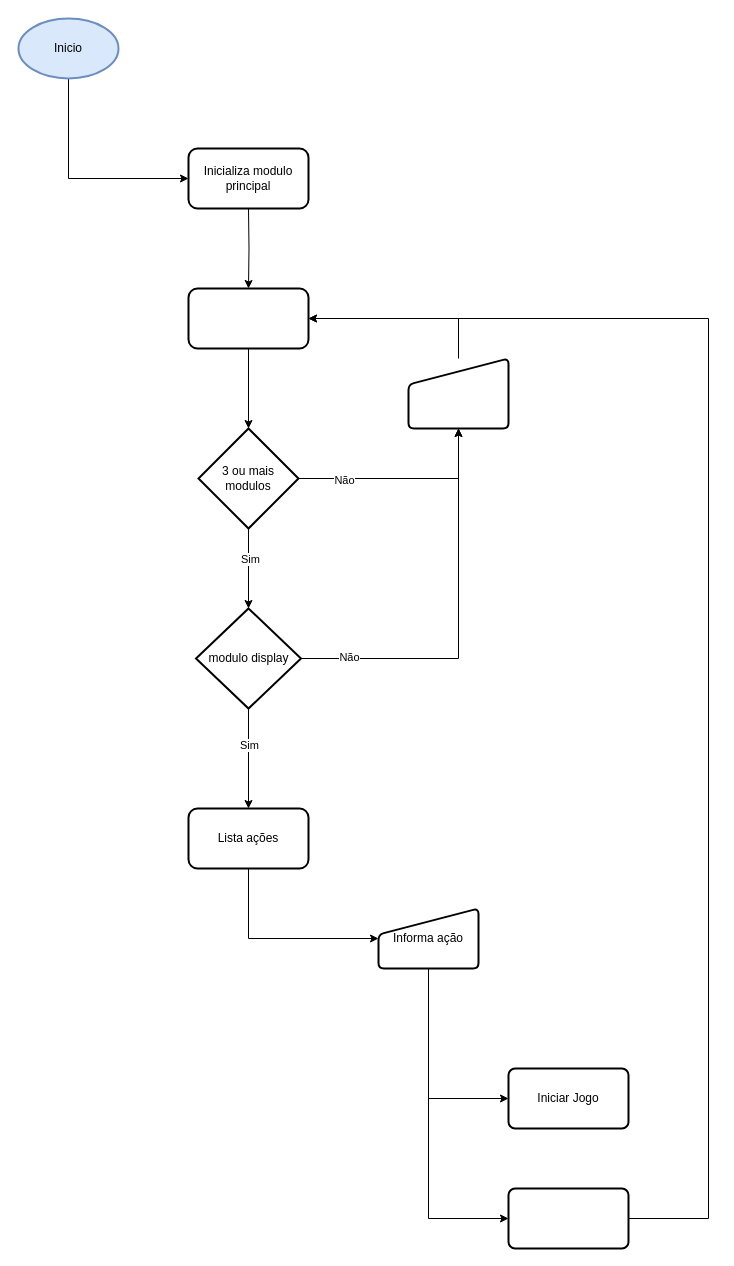
This 734x1266 diagram has some shape labels left out. The shapes that lost their labels are listed below. From the top down, each one's centre as x and y in pixels, then its label:
At (x=248, y=318): "Varredura dos modulos conectados".
At (x=458, y=393): "Solicita fazer nova varredura".
At (x=568, y=1218): "Buscar modulos".
